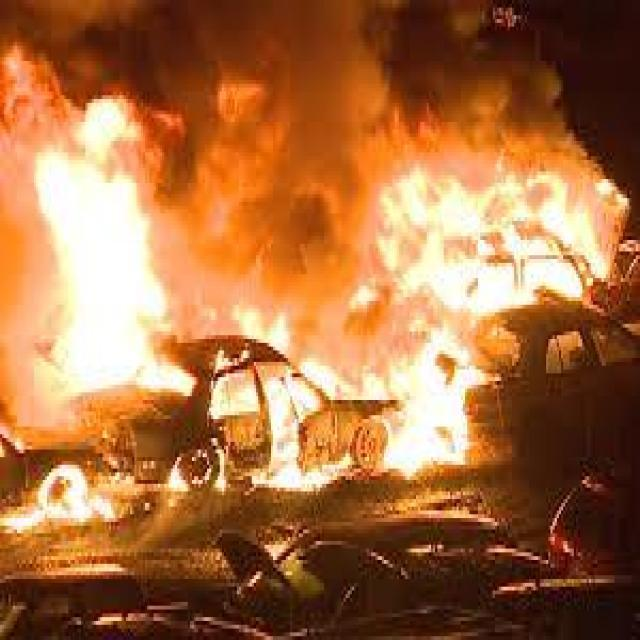Fire: (27, 91, 186, 404), (360, 148, 622, 331), (184, 366, 458, 492), (29, 452, 125, 532)
Smoke: (190, 19, 358, 324), (366, 12, 586, 139), (43, 11, 154, 88)
